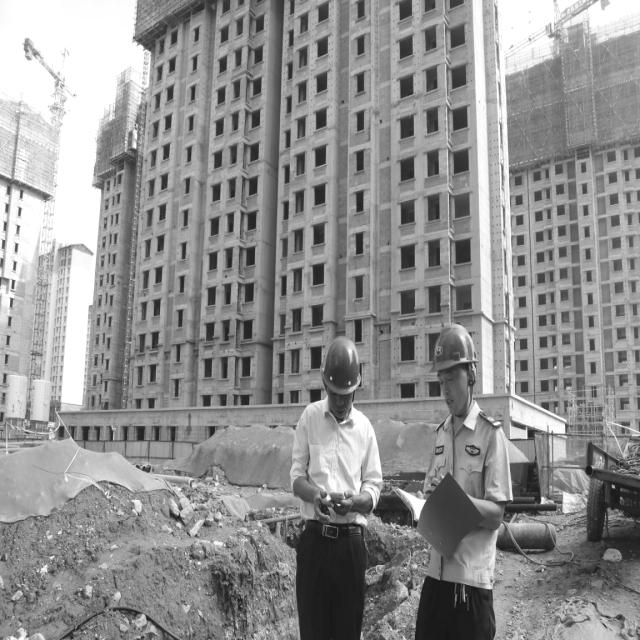face_nomask: (436, 365, 471, 413), (327, 385, 355, 422)
hand_noglove: (312, 489, 330, 531), (338, 485, 358, 519)
head_helmet: (318, 334, 362, 394), (427, 322, 478, 372)
person: (408, 321, 509, 640), (288, 331, 385, 640)
